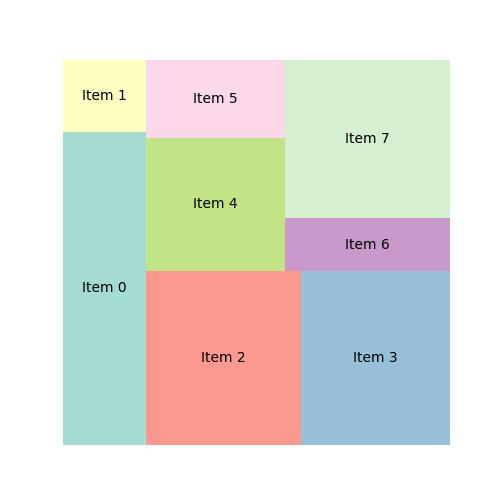rectangle: (146, 271, 301, 446), (284, 59, 450, 218), (63, 130, 146, 448), (300, 269, 450, 444), (147, 141, 284, 271), (146, 59, 285, 139), (284, 219, 451, 270), (64, 59, 147, 132)
